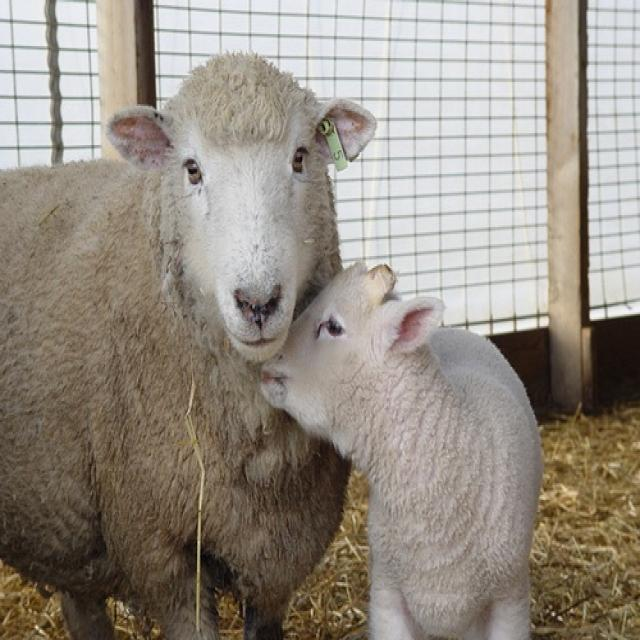sheep: (1, 54, 376, 639), (260, 264, 545, 639)
